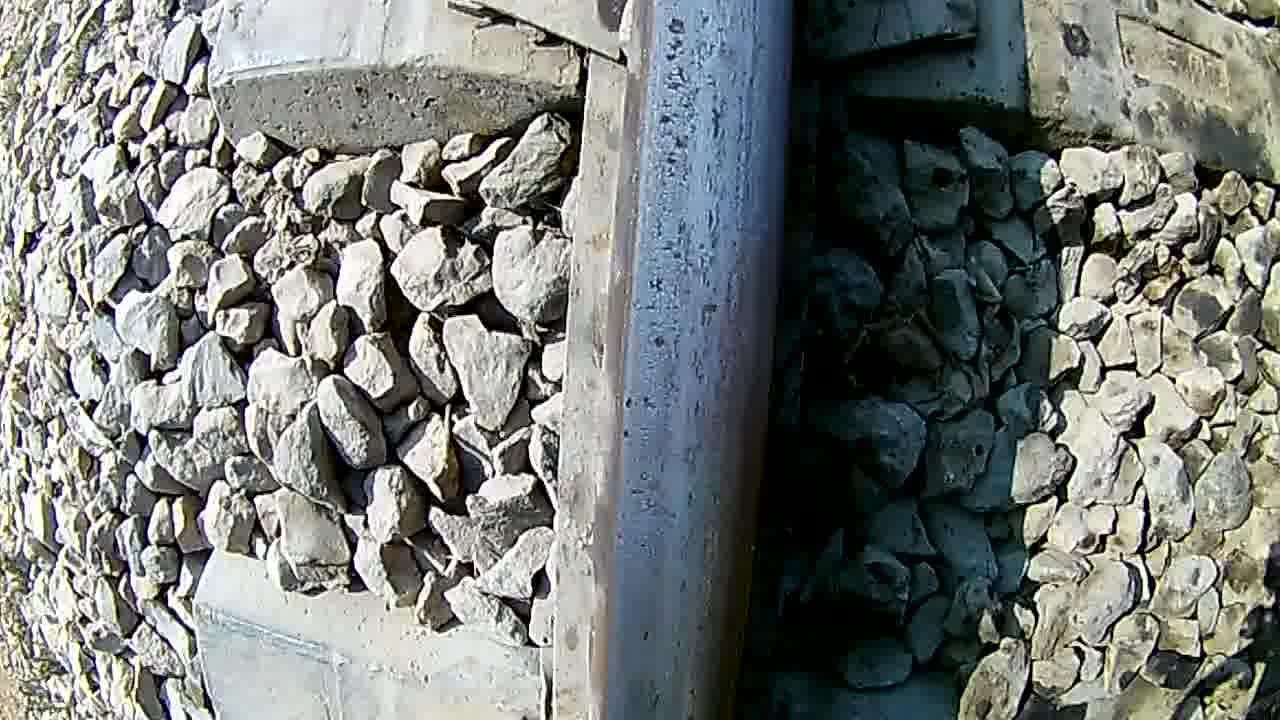crack: (600, 3, 791, 720)
